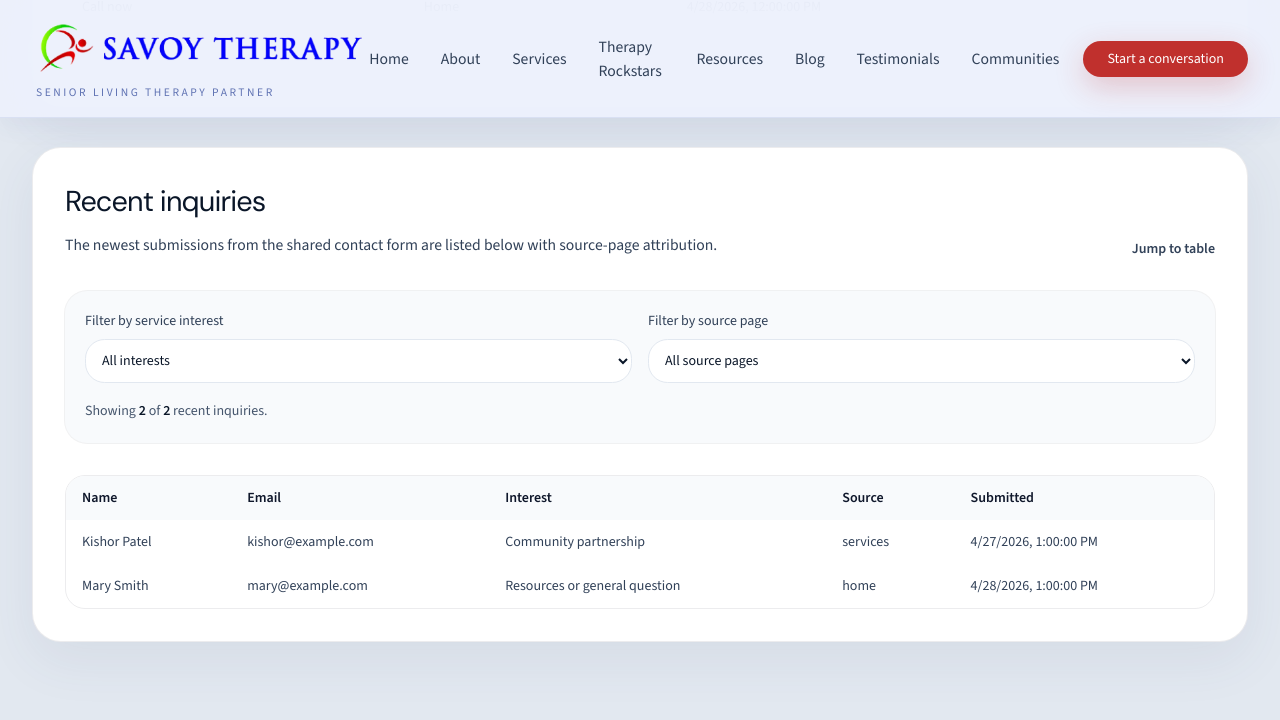
Test: ContactReportPage › renders summary cards and filters recent leads by interest and source
(page scrolled)
Select "Community partnership" in the dropdown labelled "Filter by service interest" at (358,361), box [85,339,632,383]
(page scrolled)
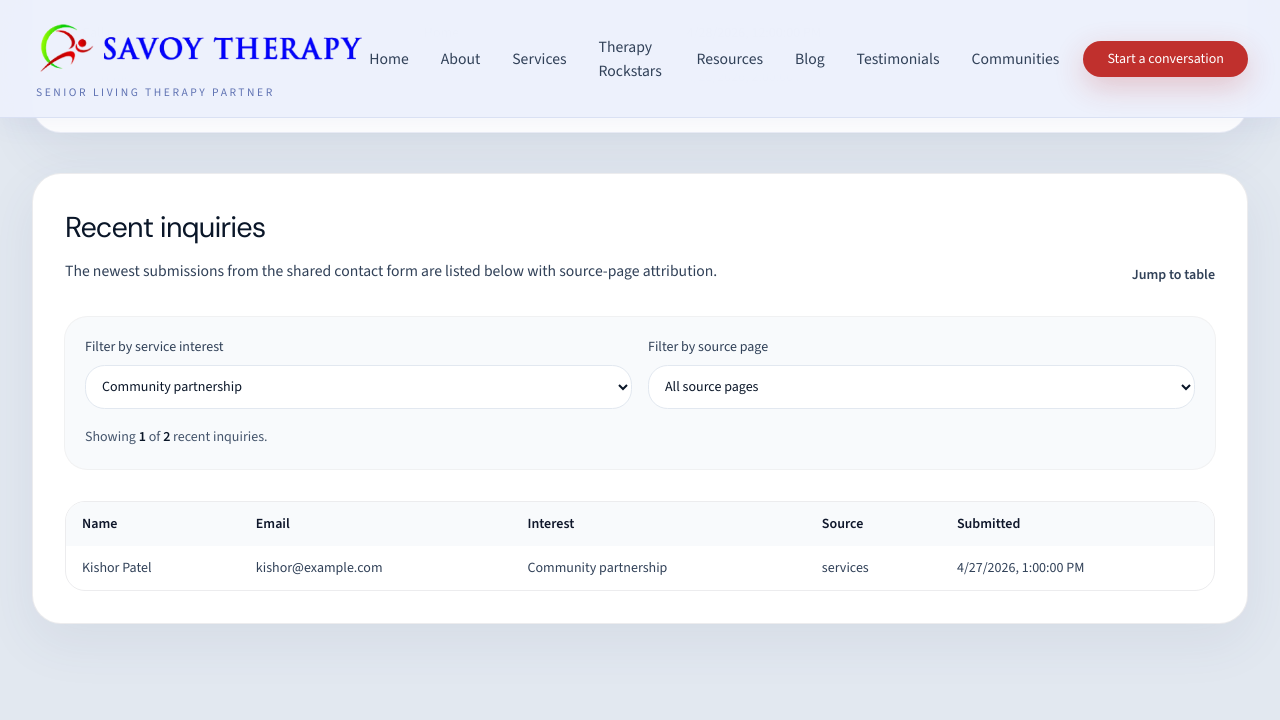
Expected: the text "Kishor Patel" is shown, [66,546,240,590]
Result: the text "Showing 1 of 2 recent inquiries." is shown at [85,427,268,446]
Result: the text "Mary Smith" is gone
Select "home" in the dropdown labelled "Filter by source page" at (922,387), box [648,365,1195,409]
(page scrolled)
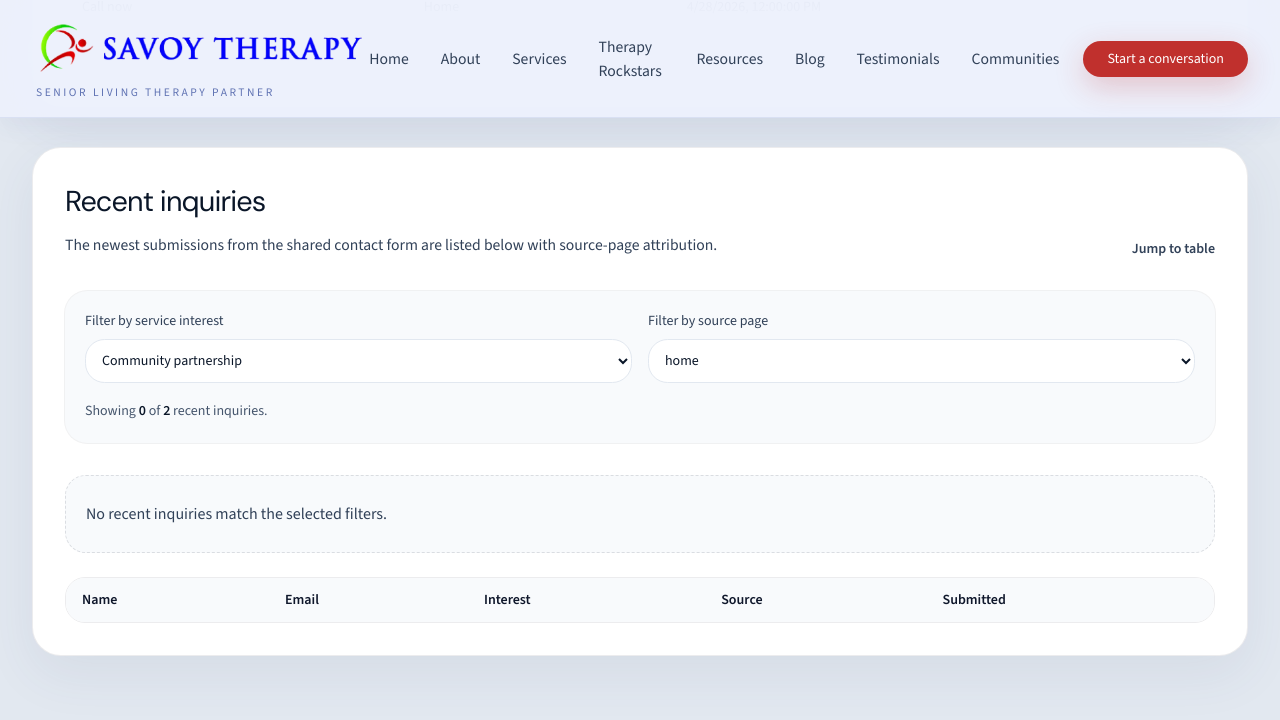
Result: the text "No recent inquiries match the selected filters." is shown at [65,475,1215,553]
